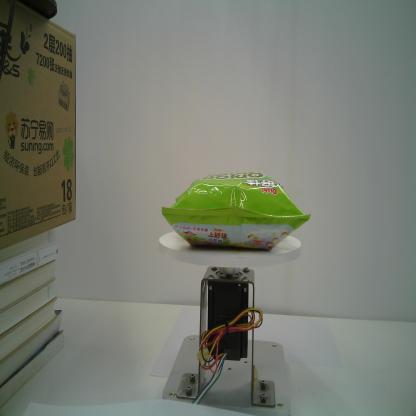Puffed Food: (161, 171, 311, 251)
